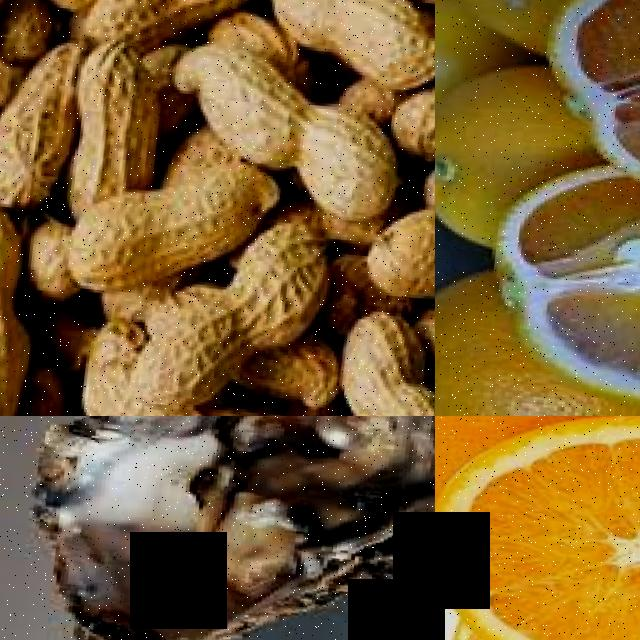orange: (435, 416, 640, 640), (504, 178, 640, 366), (435, 49, 564, 207), (435, 258, 554, 416), (435, 0, 460, 125)
oysters: (25, 416, 435, 640)
peanuts: (75, 172, 232, 291), (72, 32, 177, 182), (175, 39, 310, 155), (274, 87, 401, 209), (0, 42, 87, 212), (137, 289, 261, 408), (231, 212, 337, 343), (344, 301, 435, 416), (301, 0, 435, 78), (0, 192, 44, 416), (369, 197, 435, 298), (92, 0, 267, 38), (391, 49, 435, 155), (166, 394, 317, 416)
